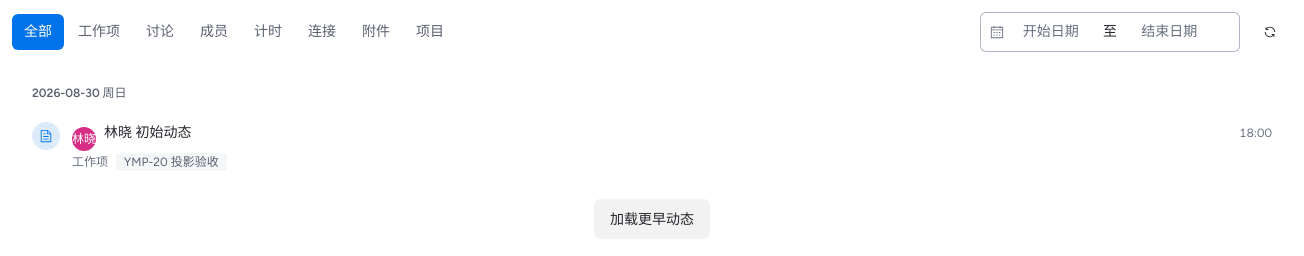
Test: ActivityTimeline › 刷新后忽略仍在途的加载更早响应
Click the button with class "activity-timeline__older" at (652, 219), box [594,199,710,239]
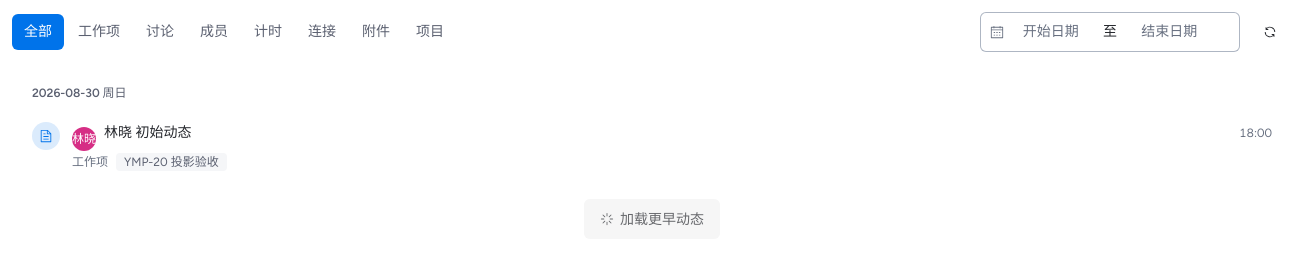
Click the button with class "activity-timeline__refresh" at (1270, 32), box [1248,12,1292,52]
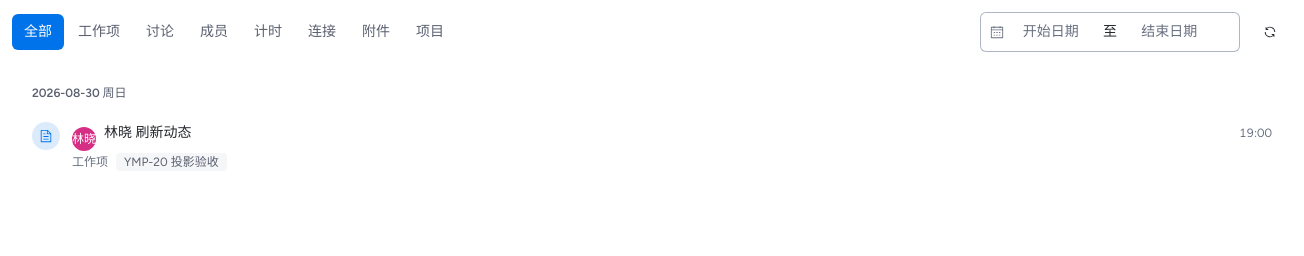
expect the text "刷新动态" is shown: met, box [132,124,192,141]
